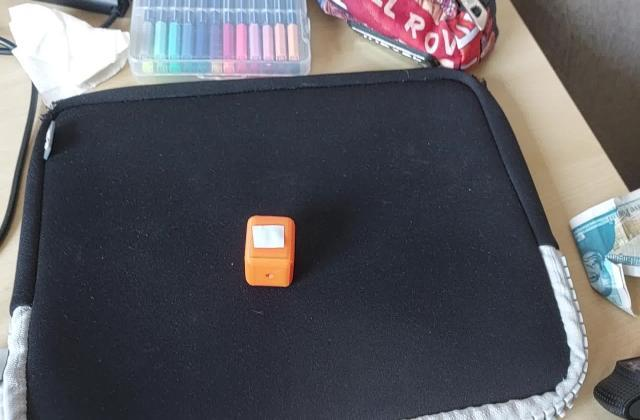sticker: (242, 214, 296, 291)
white: (250, 223, 288, 252)
